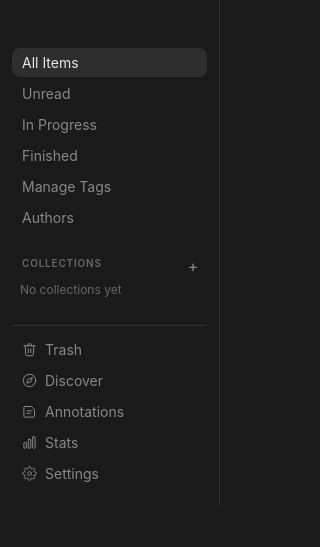
Test case: Sidebar — collections CRUD › surfaces an error when creation fails
Click the button titled "New collection". click: (193, 266)
box: [183,256,203,276]
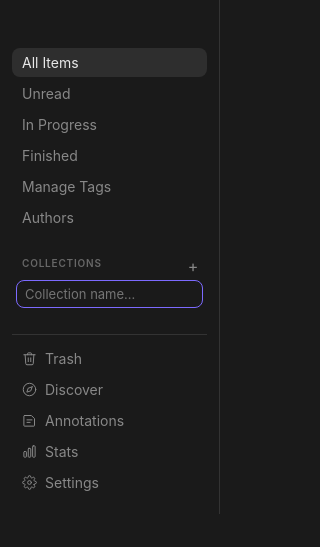
Type "Fantasy" into the field with placeholder "Collection name…". click: (110, 294)
box: [16,280,203,308]
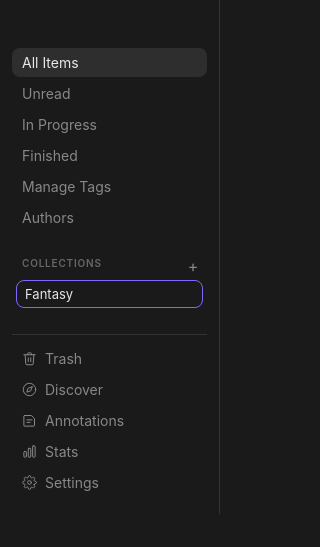
Leave the field with placeholder "Collection name…", box [16,280,203,308]
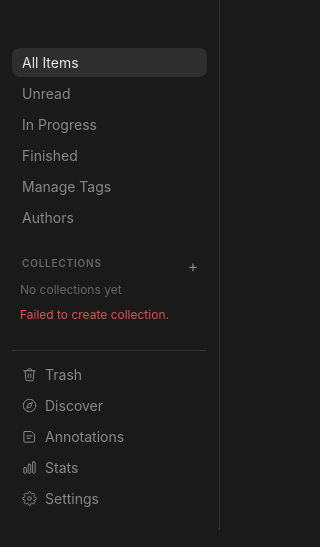
Expected: the text "Failed to create collection." is shown, [20,307,169,322]
